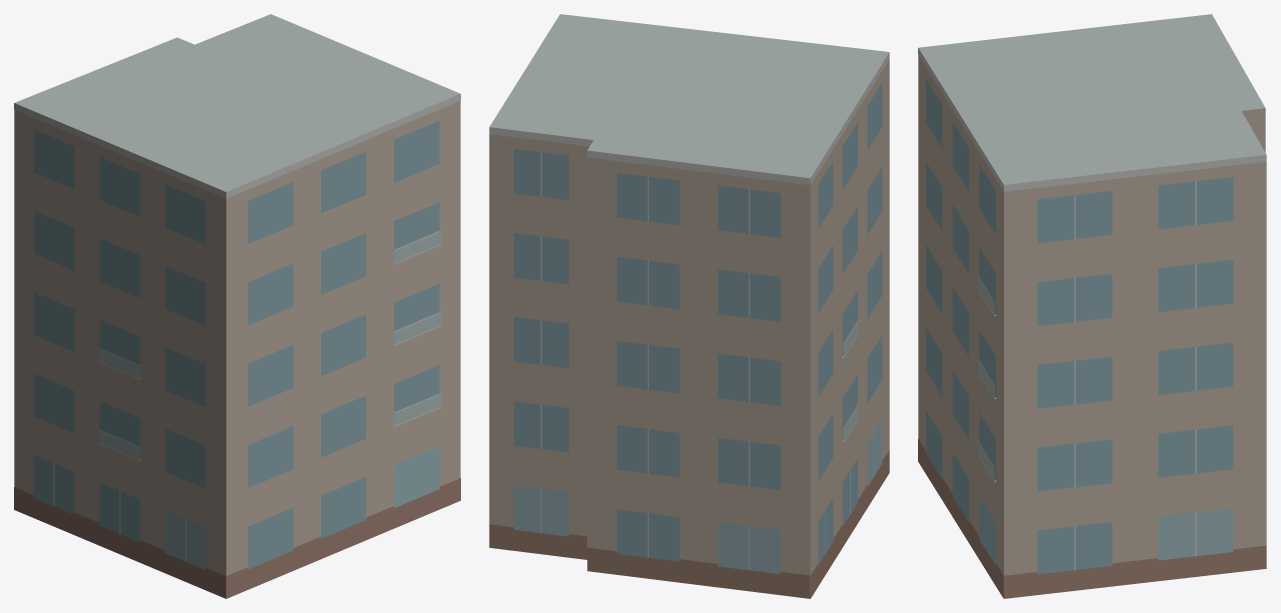
The model's file is survey-upis-32600170.glb.
3 renders of one model, left to right at view 1: azimuth 30°, elevation 25°; view 2: azimuth 150°, elevation 25°; view 3: azimuth 270°, elevation 25°, orthographic. The views are drawn at different scales.
Parts seen in each view (by area): view 1: survey-upis-32600170.tmp; view 2: survey-upis-32600170.tmp; view 3: survey-upis-32600170.tmp.
Part boxes in pixels (x1=…): survey-upis-32600170.tmp: x1=14, y1=14, x2=460, y2=598; survey-upis-32600170.tmp: x1=489, y1=14, x2=889, y2=598; survey-upis-32600170.tmp: x1=918, y1=14, x2=1266, y2=598.
Size of the model in its own units: 13.03 by 14.7 by 11.23.
